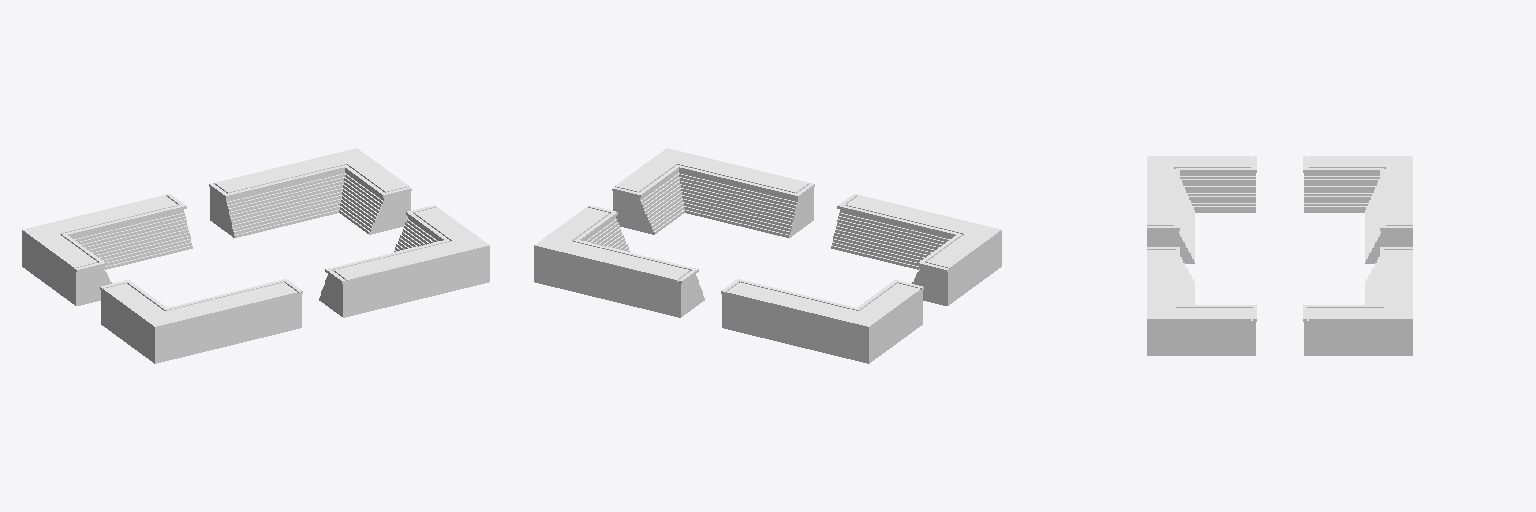
File: FullWalls.obj
3 views of the same model, side by side, from view 1: azimuth 30°, elevation 25°; view 2: azimuth 150°, elevation 25°; view 3: azimuth 270°, elevation 25° (orthographic).
Parts seen in each view (by area): view 1: object 1; view 2: object 1; view 3: object 1.
Boxes of the visible parts, <box> form: object 1: <box>22,148,489,363</box>; object 1: <box>534,148,1001,363</box>; object 1: <box>1147,156,1412,355</box>.
Size of the model in its own units: 25.6 by 2.7 by 17.6.